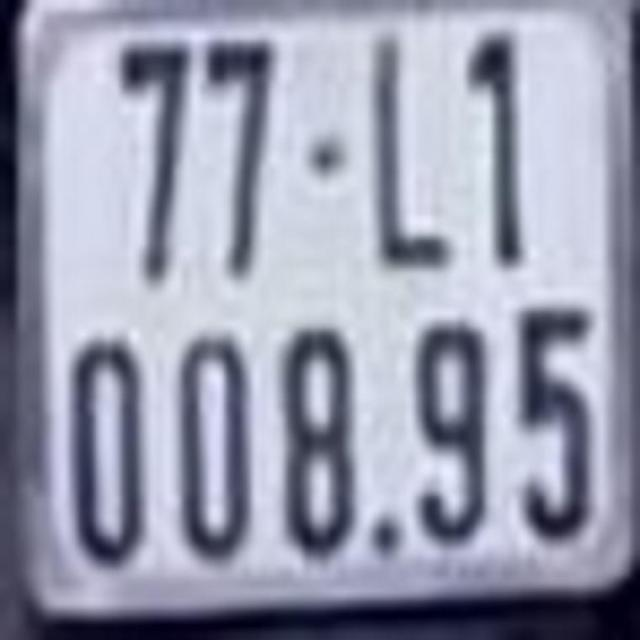0: (69, 339, 147, 567), (180, 334, 254, 568)
1: (464, 33, 524, 266)
5: (516, 304, 595, 542)
7: (115, 38, 192, 284), (202, 37, 267, 286)
8: (278, 327, 358, 556)
9: (415, 320, 490, 548)
L: (371, 36, 456, 274)
